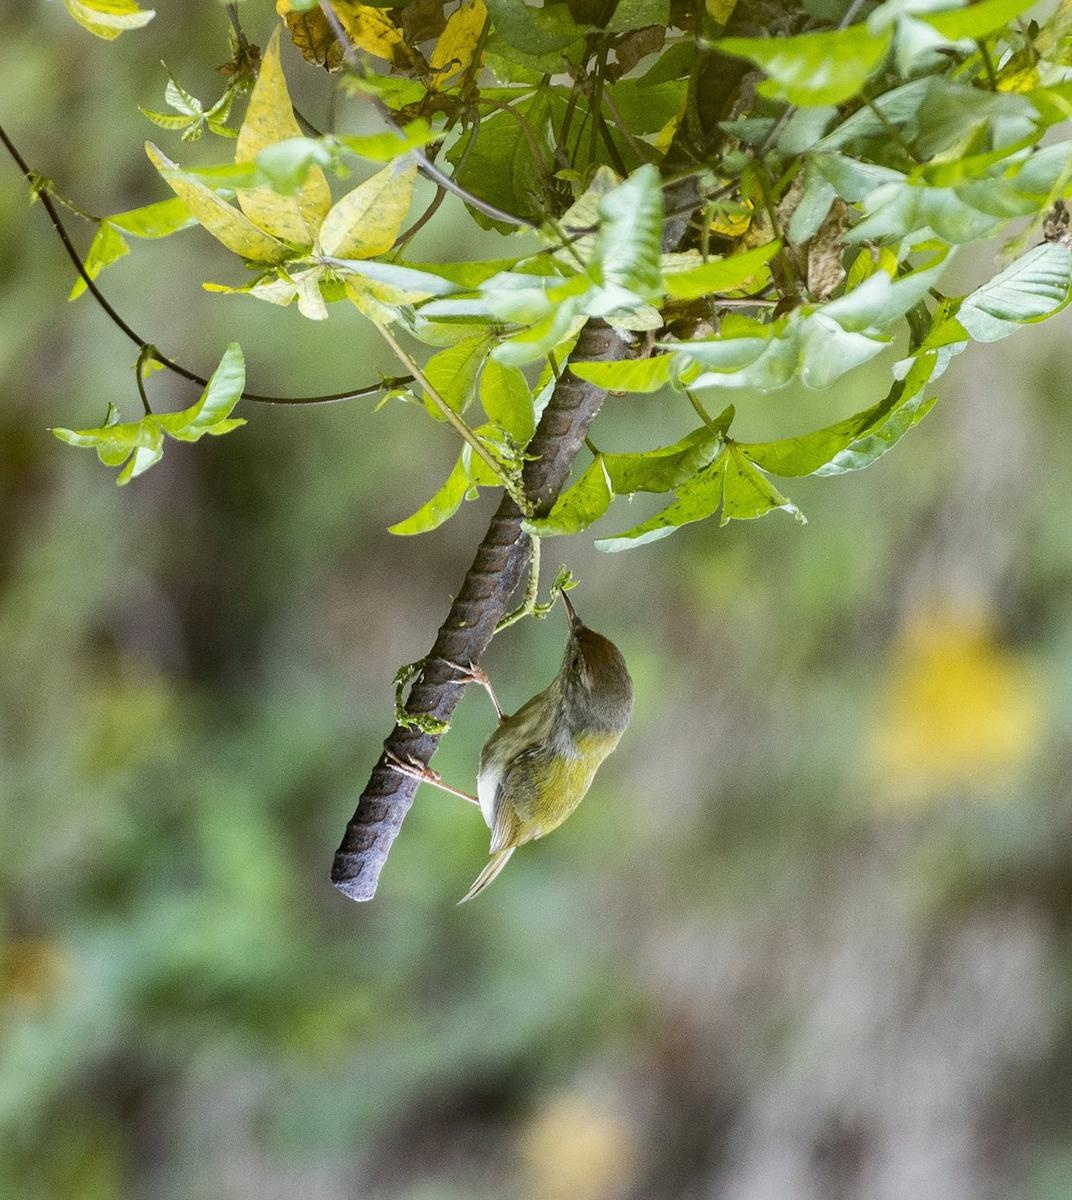tailorbird: (391, 596, 671, 893)
